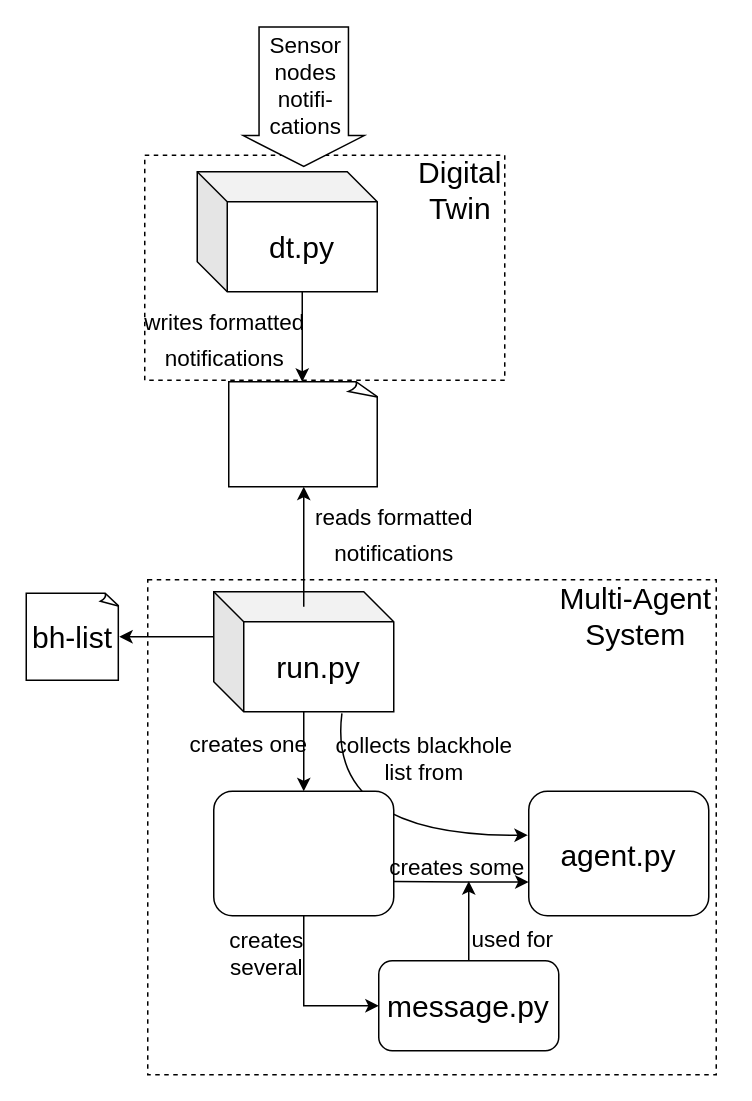
Image size: 752x1101. Some labels were removed from this diagram. The shapes that lost their labels are listed below. From the top down, each one's centre as x and y in pixels, then its label:
point (303, 433): dt-mas-fifo
point (303, 853): model.py
